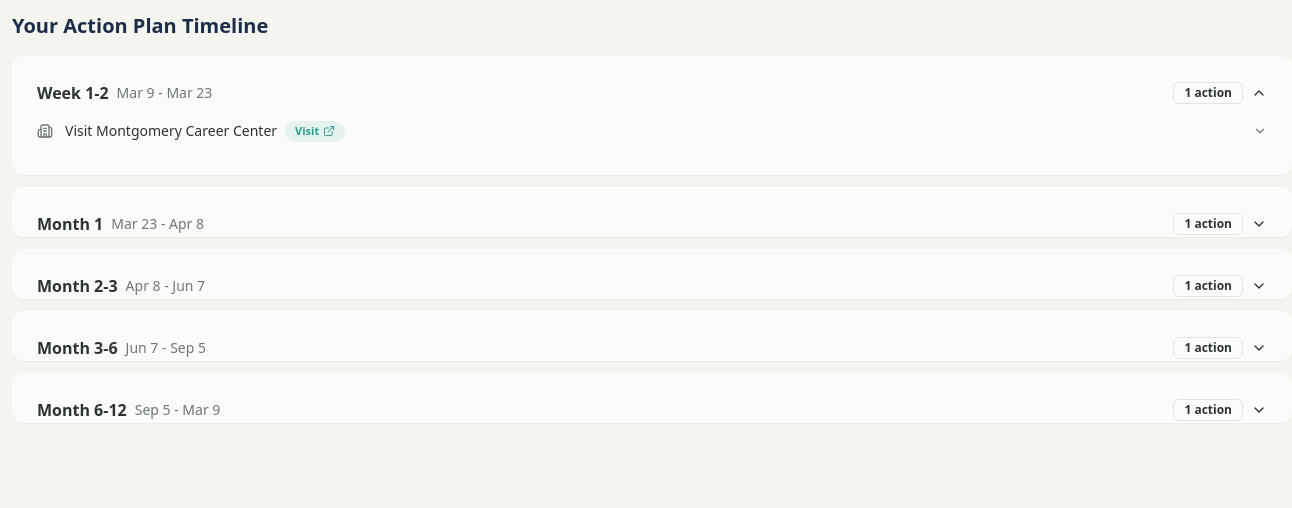
it: ActionTimeline › clicking a collapsed phase header expands it
Expected: the text "Apply to top 3 jobs" is not shown
# Click the Month 1 phase toggle
Click the button "Month 1 Mar 23 - Apr 8 1 action": (70, 224) [37,212,1267,236]
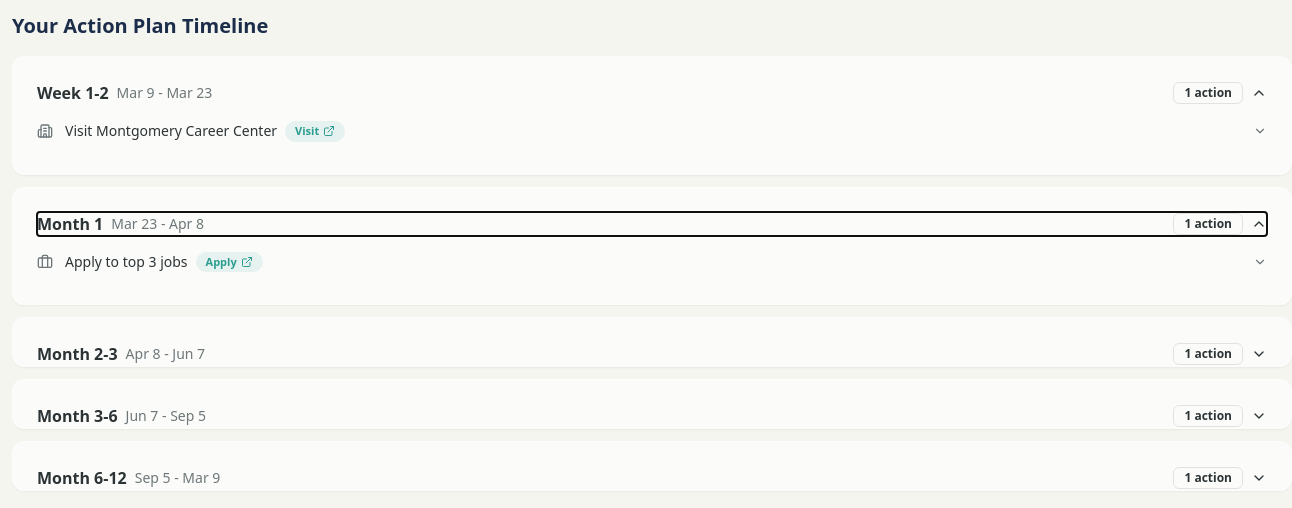
Expected: the text "Apply to top 3 jobs" is shown, [65,252,188,272]
